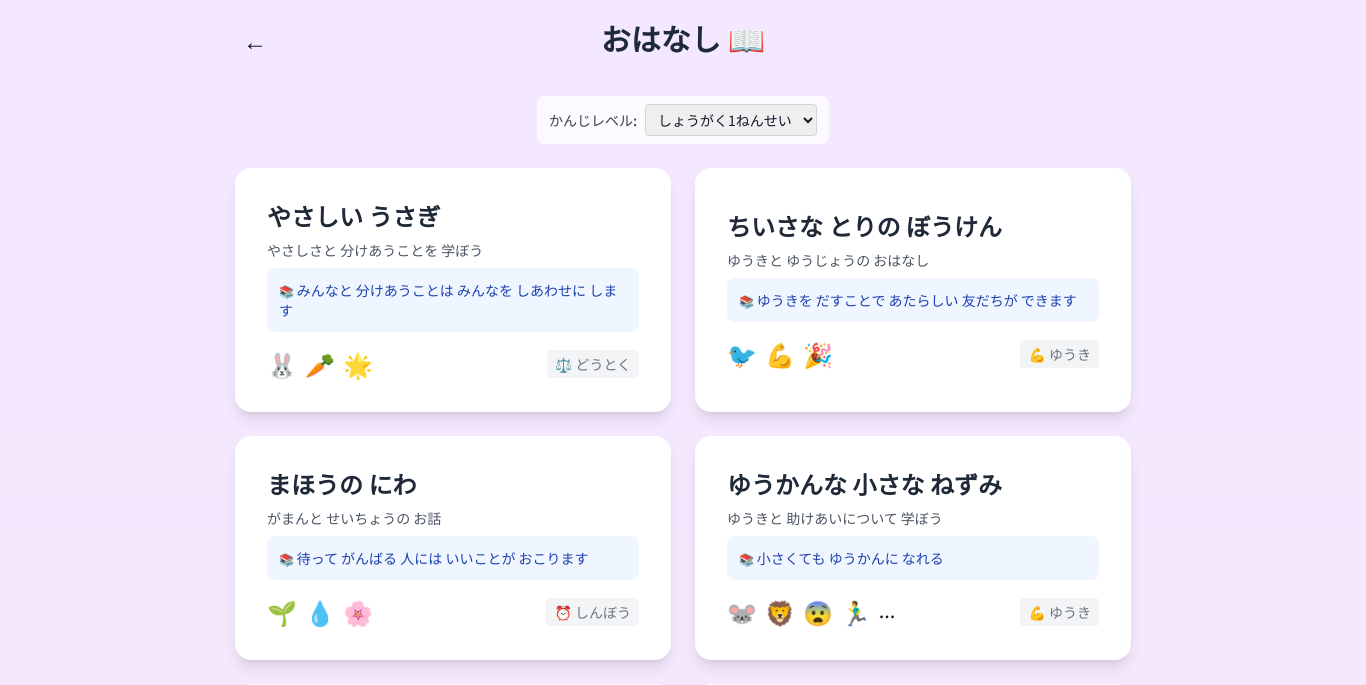
Test: StoryPage › ストーリーを選択すると読書画面に移る
Click the heading "やさしい うさぎ" at [354, 216], box [267,198,440,233]
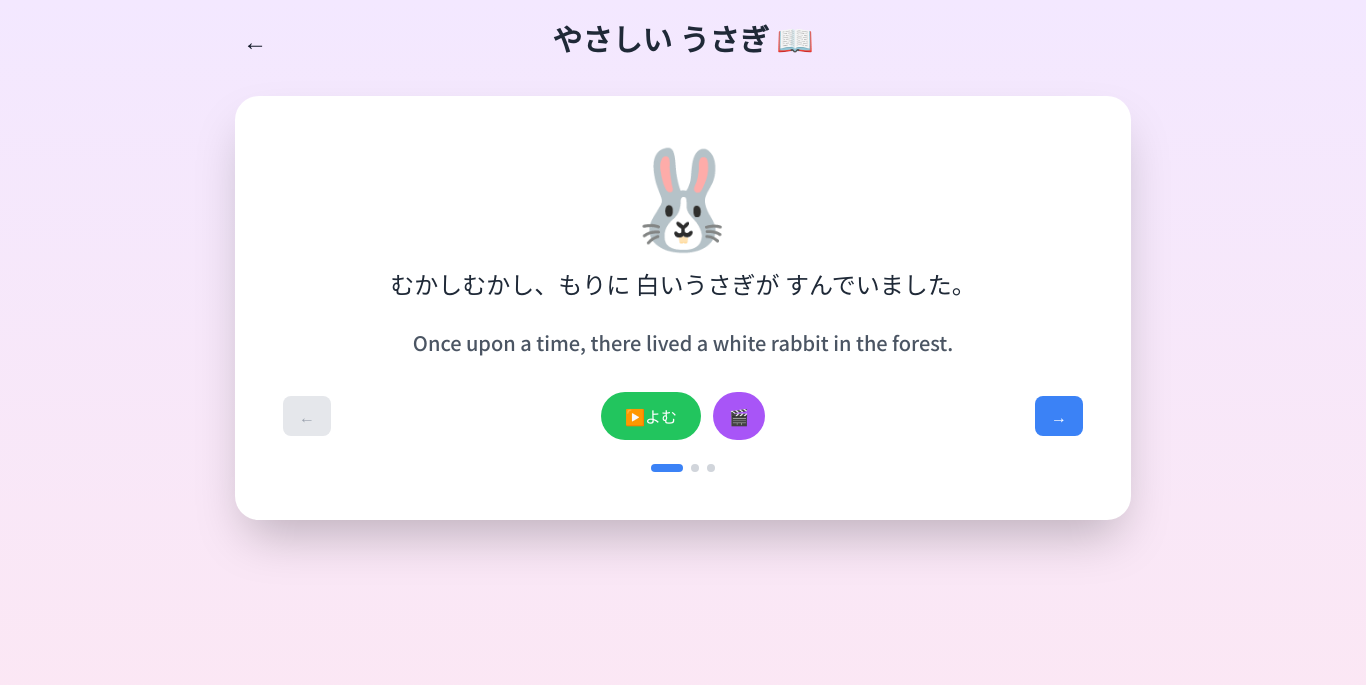
Check: the text "🐰" is shown, box [623,122,743,261]
Check: the text "むかしむかし、もりに 白いうさぎが すんでいました。" is shown, box [390,266,976,301]
